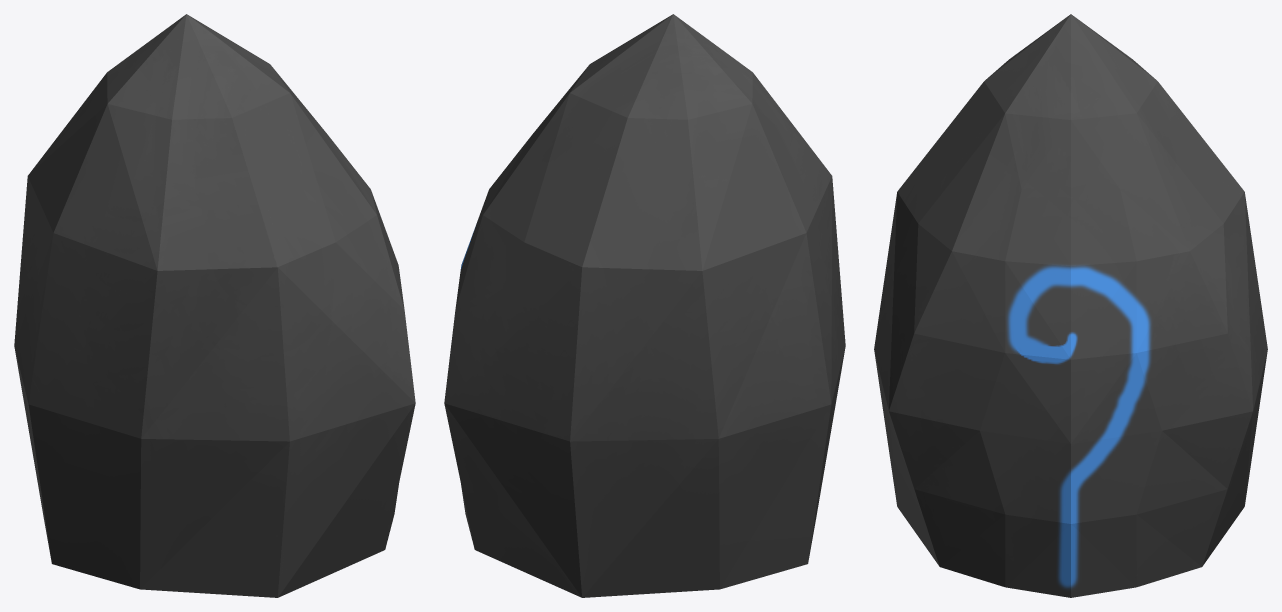
File: waystone.obj
The picture shows the model from 3 angles, left to right: view 1: azimuth 30°, elevation 25°; view 2: azimuth 150°, elevation 25°; view 3: azimuth 270°, elevation 25°; orthographic projection. The views are drawn at different scales.
Visible parts, largest first — view 1: Cube_Cube.001; view 2: Cube_Cube.001; view 3: Cube_Cube.001.
Boxes of the visible parts, x1,y1,x2,y2 form: Cube_Cube.001: (14,14,415,597); Cube_Cube.001: (444,14,845,597); Cube_Cube.001: (874,14,1267,597).
Size of the model in its own units: 69.25 by 99.03 by 67.99.
